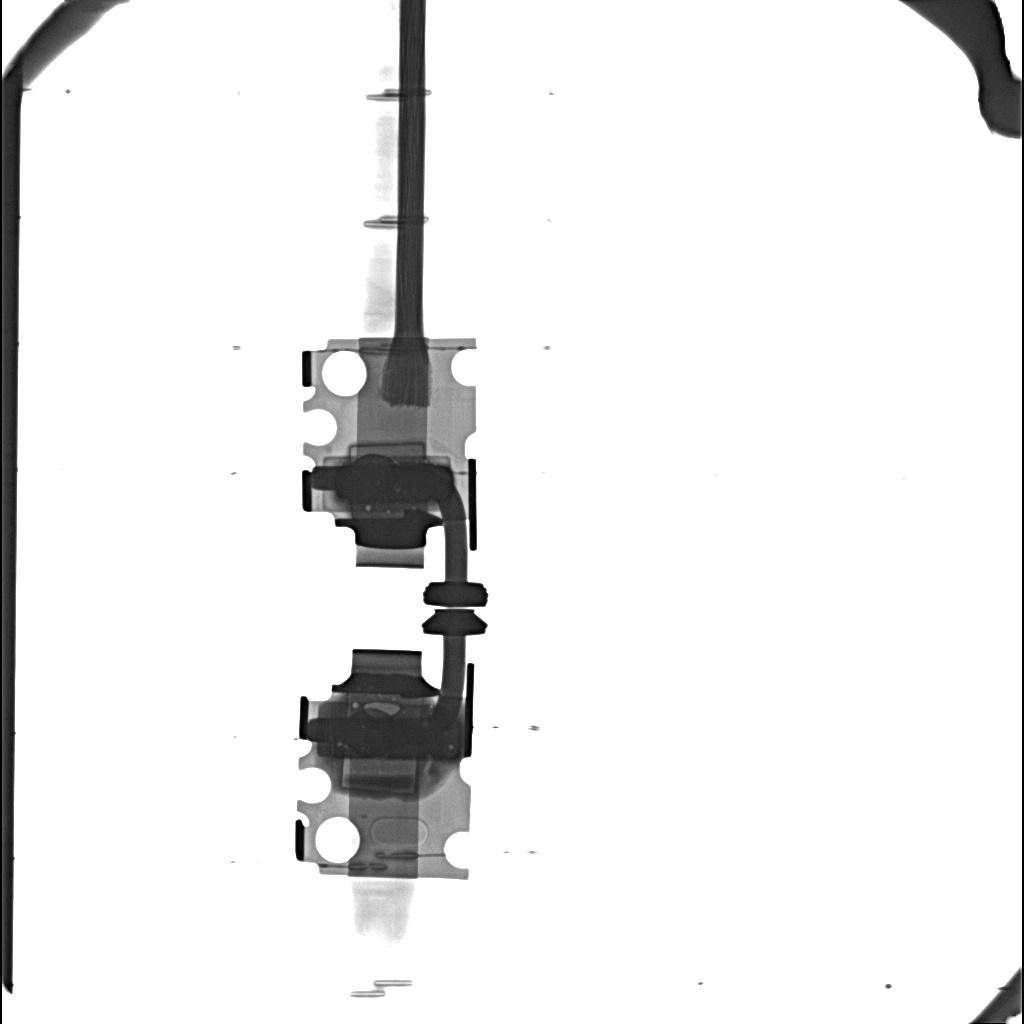defect: (326, 718, 460, 761), (337, 463, 452, 504), (339, 760, 419, 796), (348, 442, 426, 461), (364, 702, 399, 715), (352, 702, 359, 709)
